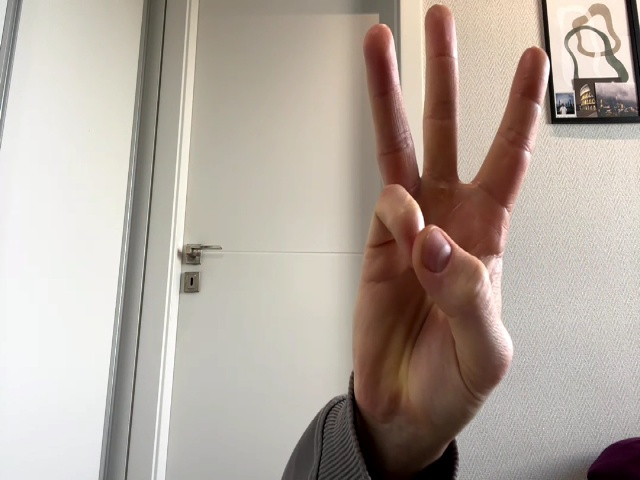W: (352, 4, 552, 432)
